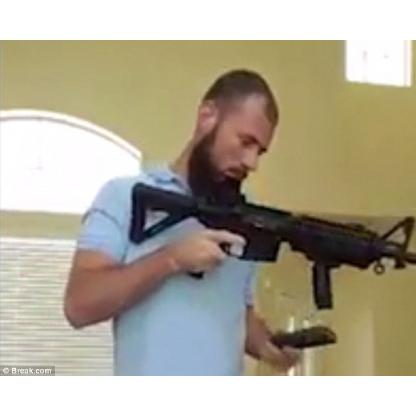gun: (129, 183, 415, 305)
